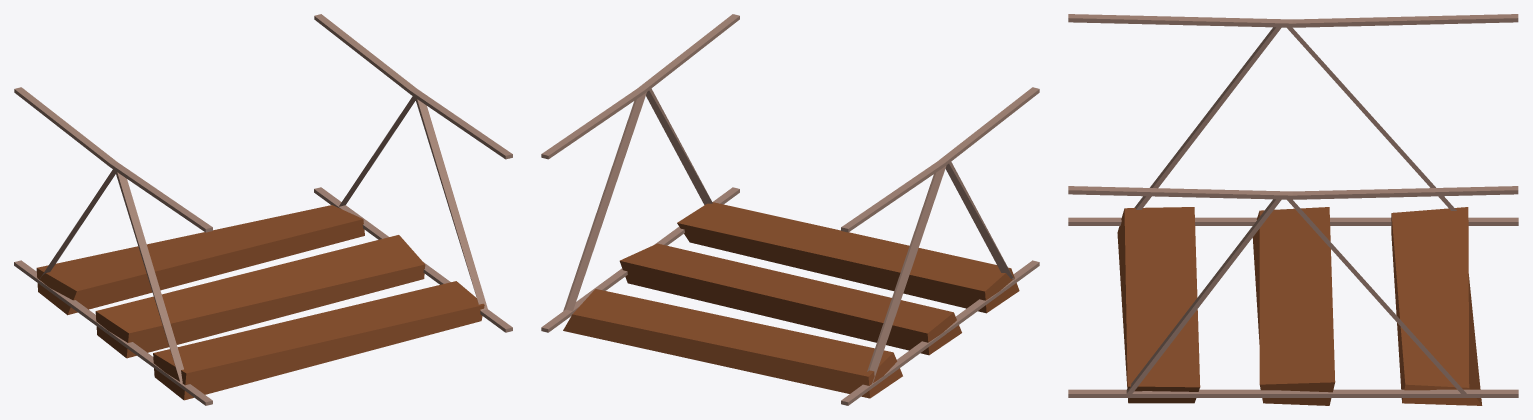
The model's file is bridge.glb.
3 renders of one model, left to right at view 1: azimuth 30°, elevation 25°; view 2: azimuth 150°, elevation 25°; view 3: azimuth 270°, elevation 25°, orthographic. The views are drawn at different scales.
Parts seen in each view (by area): view 1: bridge; view 2: bridge; view 3: bridge.
Part boxes in pixels (x1,y1,x2,y2): bridge: (14,14,512,405); bridge: (541,14,1039,405); bridge: (1068,14,1518,405).
Bounding box in the file's own units: 1.87 × 1.08 × 2.02.
